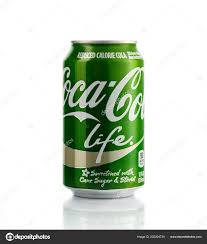can: (55, 32, 153, 208)
